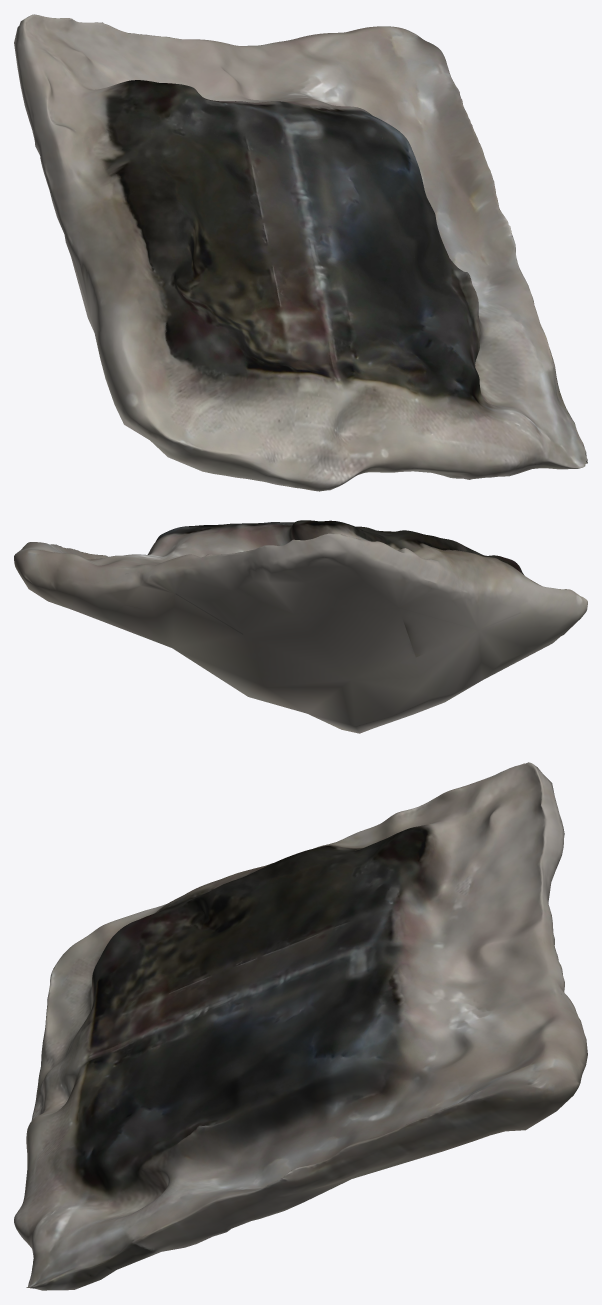
3 renders of one model, top to bottom at view 1: azimuth 30°, elevation 25°; view 2: azimuth 150°, elevation 25°; view 3: azimuth 270°, elevation 25°, orthographic. The views are drawn at different scales.
Bounding box in the file's own units: 0.4013 × 0.2694 × 0.3793.
1 material, 1 textured.
